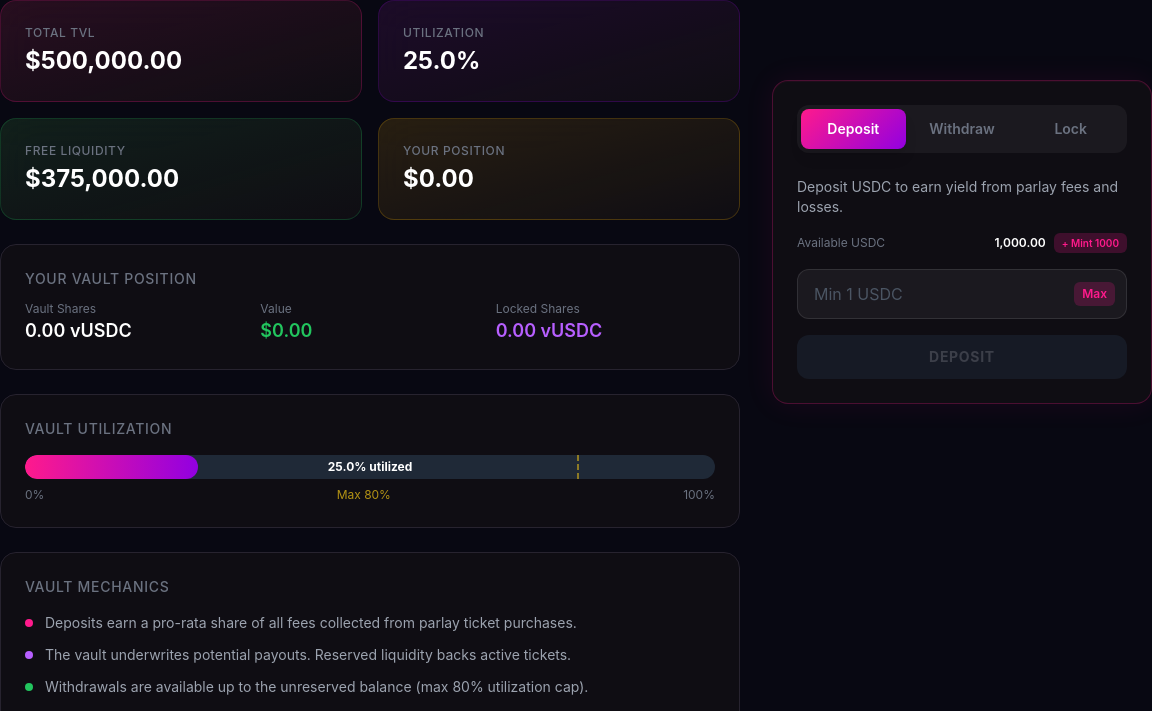
Test: VaultDashboard › deposit minimum guard › shows 'Minimum 1 USDC' on button for sub-minimum deposit
Step 1. Type "0.99" into the field with placeholder "Min 1 USDC" → (962, 294), box [797, 269, 1127, 319]
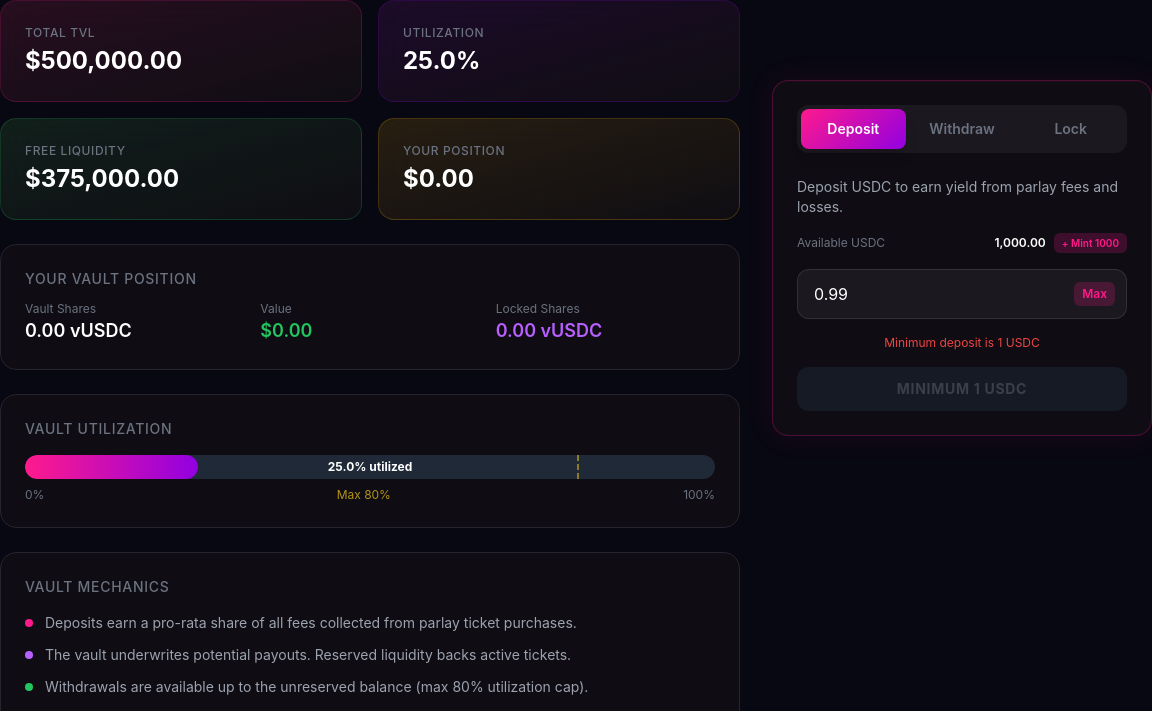
Check: the button "Minimum 1 USDC" is shown, box [797, 367, 1127, 411]
